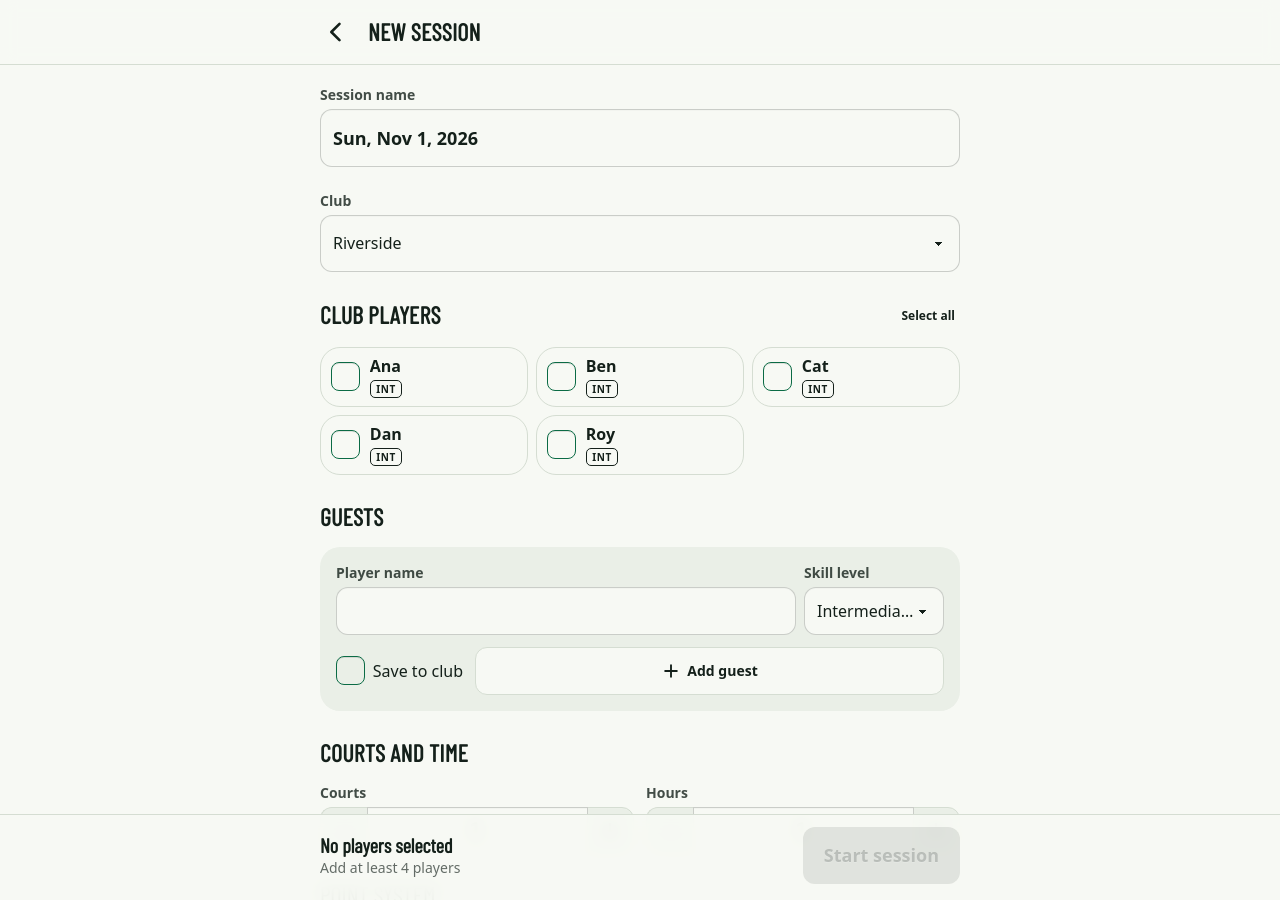
it: New session with a Shared club: starting › offers Open active session instead of a second Start when the Club already has one
The image size is (1280, 900).
Click the button "Select all" at (928, 315), box [888,296,968,335]
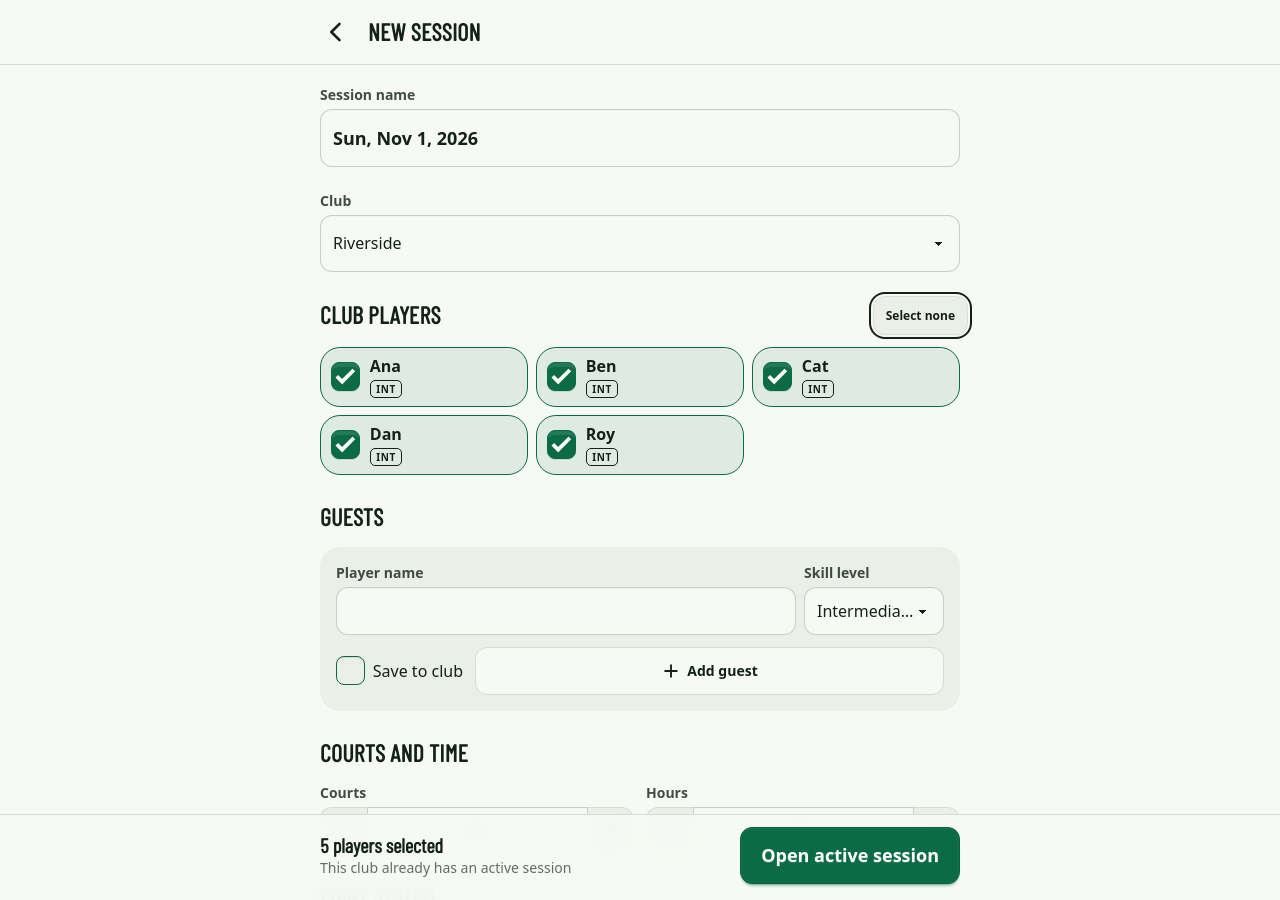
Expected: the button "Start session" is gone
Expected: the text "This club already has an active session" is shown, [320,858,571,877]
